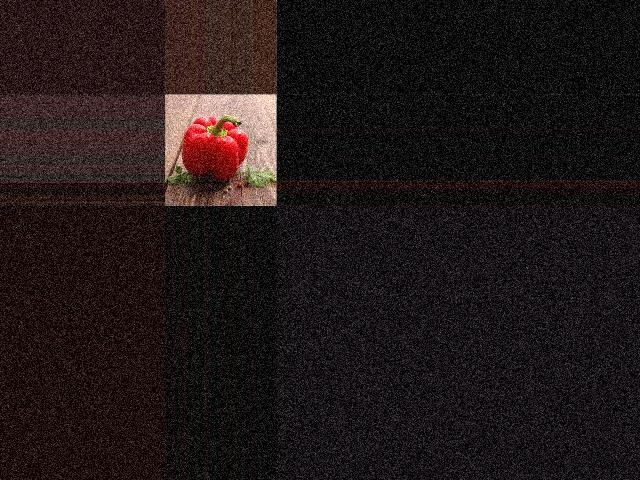bell_pepper: (177, 110, 251, 182)
